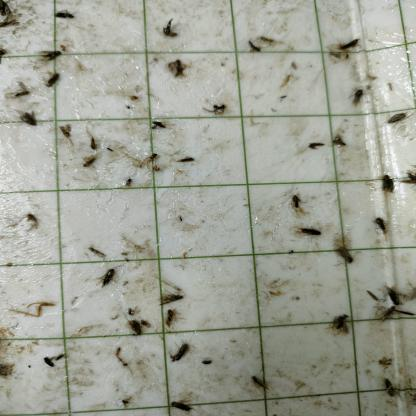prays_oleae: (329, 305, 353, 343), (166, 336, 190, 371), (158, 278, 184, 310), (297, 218, 327, 245), (248, 371, 276, 397), (385, 102, 407, 135), (332, 31, 359, 57), (16, 106, 41, 134), (10, 76, 35, 103), (384, 280, 406, 310), (348, 86, 367, 120), (371, 209, 392, 239), (378, 167, 397, 200), (381, 305, 411, 324), (337, 240, 358, 267), (288, 185, 305, 216), (124, 318, 143, 345), (38, 44, 61, 66), (98, 270, 119, 294), (403, 161, 416, 199), (305, 136, 327, 158), (208, 98, 229, 121), (52, 6, 76, 26), (168, 56, 184, 86), (44, 67, 63, 92), (57, 120, 75, 145), (86, 241, 108, 261), (40, 349, 56, 376), (169, 398, 193, 416), (376, 349, 394, 373), (364, 285, 380, 311), (176, 149, 196, 169), (259, 29, 278, 50), (161, 21, 177, 44), (150, 118, 172, 134), (383, 378, 398, 400), (246, 38, 260, 60), (23, 210, 40, 228), (140, 311, 152, 335), (166, 307, 180, 327), (80, 157, 99, 169), (53, 348, 66, 364)
